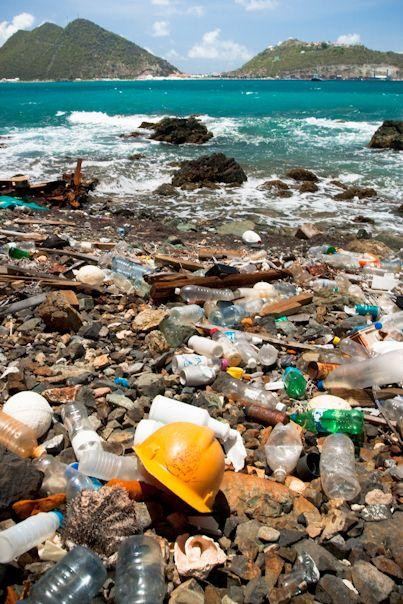HDPE: (0, 510, 65, 564), (33, 445, 47, 459), (276, 402, 287, 413), (375, 321, 383, 330), (317, 380, 324, 389), (333, 336, 340, 345), (174, 287, 181, 295)
PETE: (323, 349, 403, 390), (318, 433, 362, 501), (61, 401, 103, 459), (265, 421, 303, 483), (287, 407, 364, 436), (0, 411, 38, 460), (221, 378, 277, 411), (209, 300, 266, 326), (181, 283, 235, 303), (110, 257, 150, 279), (283, 365, 306, 398), (340, 339, 370, 360), (377, 310, 403, 333)
PP: (77, 448, 143, 482), (187, 333, 225, 360)
